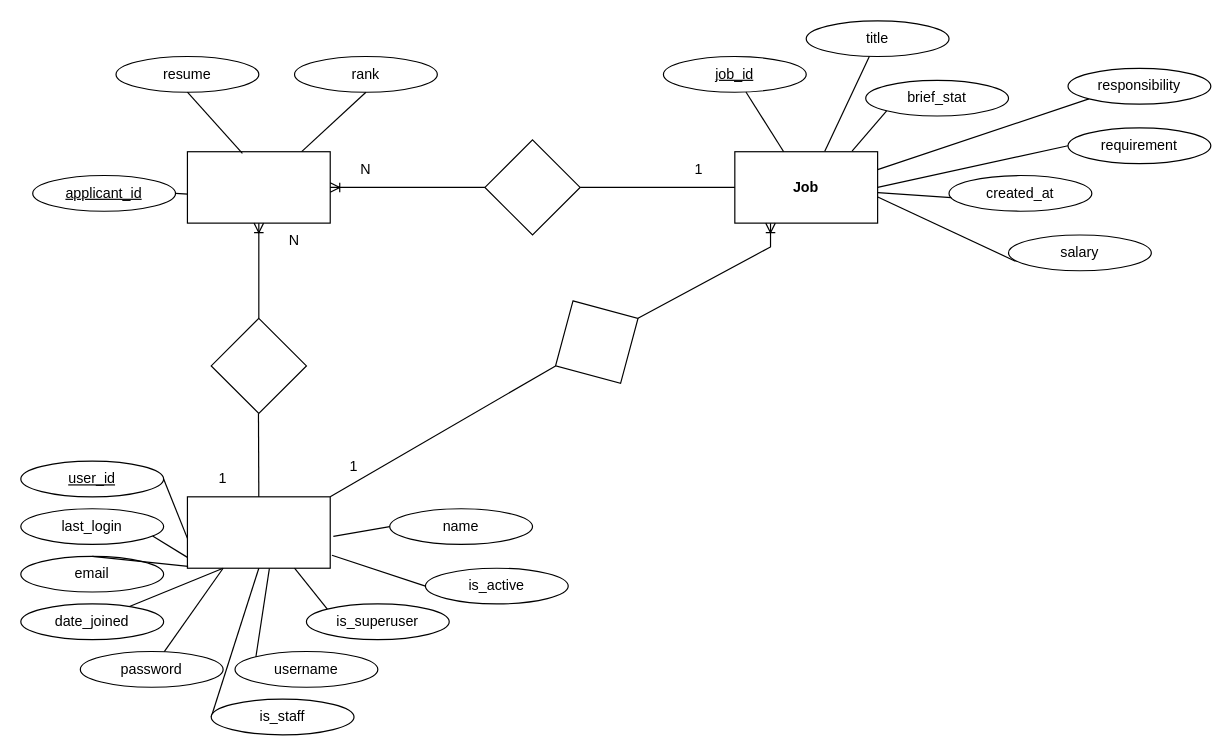
Some shapes in this 1232 by 756 pixel diagram are drawn without their labels. The centre of each missing label's shape, as x and y in pixels:
Applicant: the point at 258,187
applies to: the point at 532,187
belongs to: the point at 258,365
manages: the point at 596,341
Users: the point at 258,532
